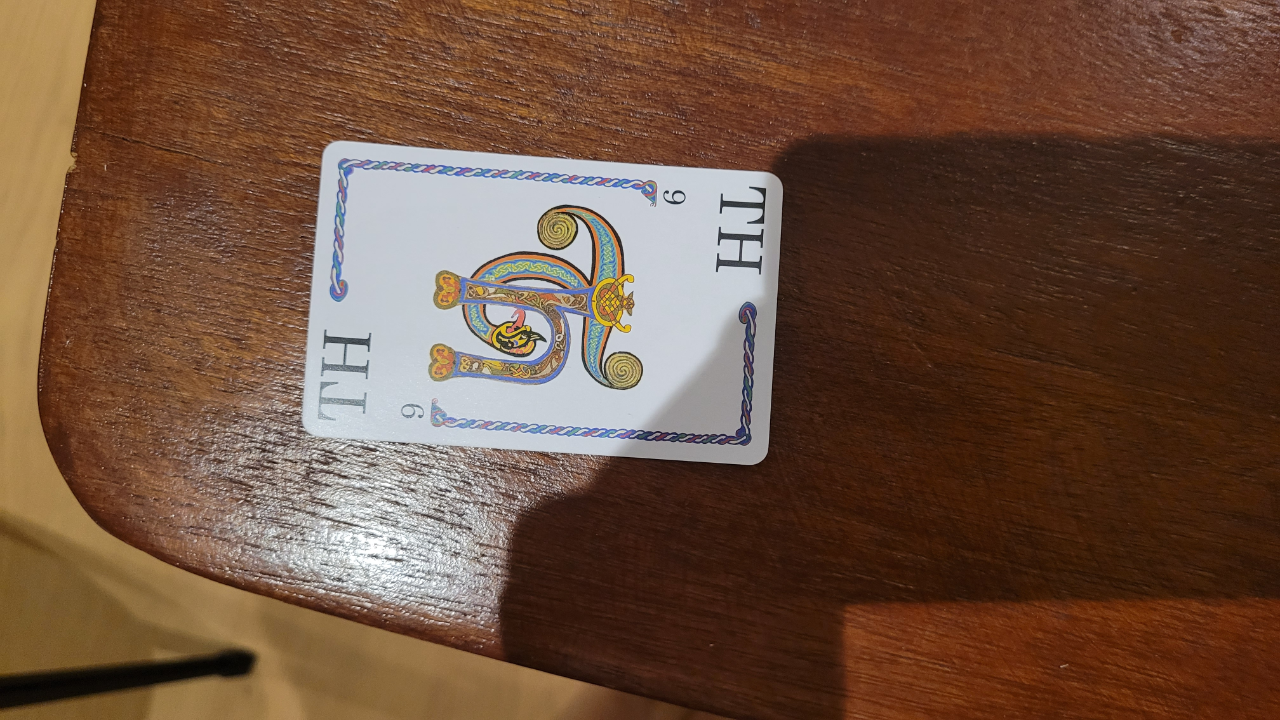quiddler_card: (300, 133, 788, 467)
